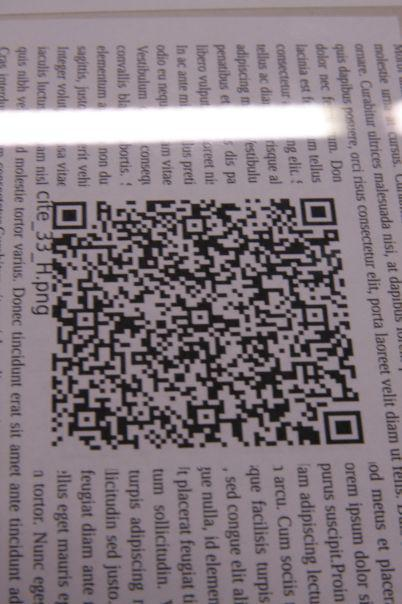Finder pattern: (323, 406, 368, 449), (45, 195, 93, 235), (297, 193, 344, 231)
